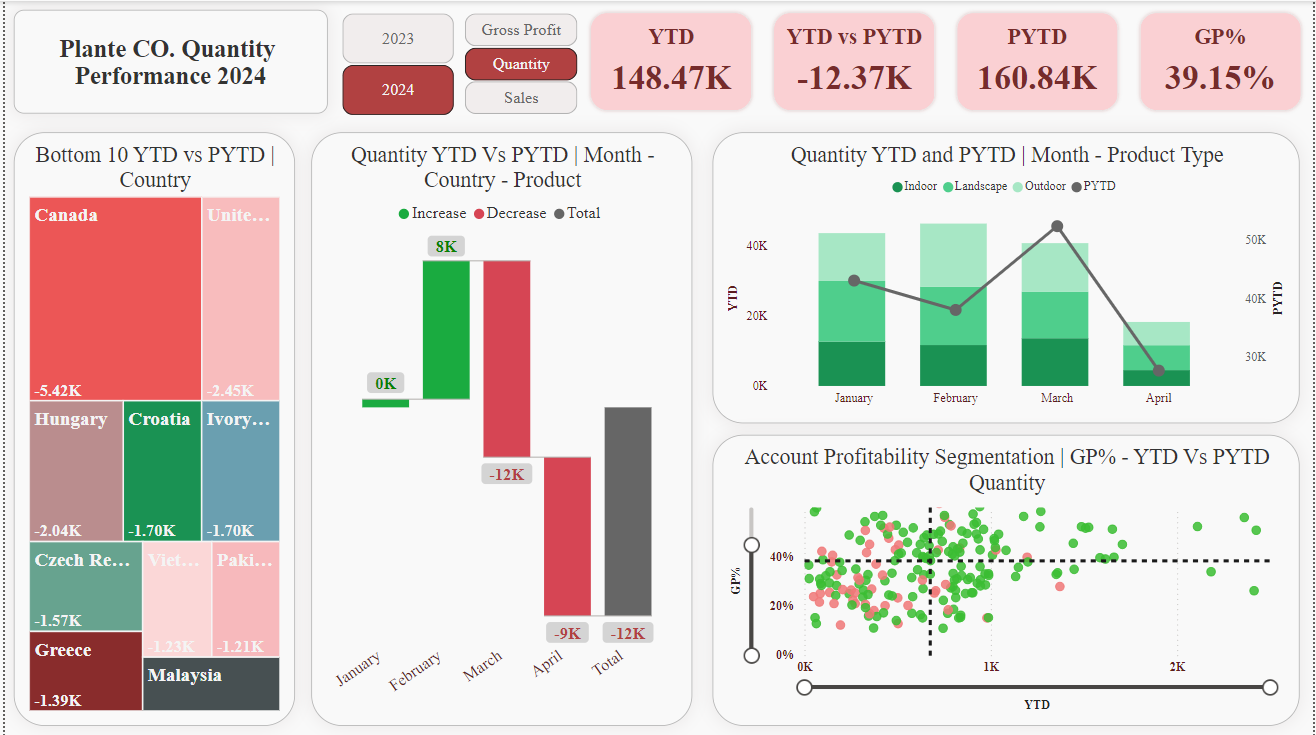

This screenshot's page, from the dashboard's own definition file:
{"tool":"powerbi","page":{"name":"Page 1","canvas":[1280,720],"ordinal":0},"visuals":[{"type":"cardVisual","fields":{"Data":["_Measures.S_YTD","_Measures.YTD vs PYTD","_Measures.S_PYTD","_Measures.GP%"]},"box":[561.3,0,718,119.8],"z":0},{"type":"advancedSlicerVisual","fields":{"Values":["SLC_Values.Values"]},"box":[445,7,120,110.1],"z":1000},{"type":"advancedSlicerVisual","fields":{"Values":["Dim_Date.Date.Variation.Date Hierarchy.Year"]},"box":[325,7,119.8,110.1],"z":2000},{"type":"treemap","title":"Bottom 10 YTD vs PYTD | Country","fields":{"Group":["Dim_Account.country"],"Values":["_Measures.YTD vs PYTD"]},"box":[8.6,128.4,275.1,580.8],"z":3000},{"type":"waterfallChart","fields":{"Y":["_Measures.YTD vs PYTD"],"Category":["Dim_Date.Date.Variation.Date Hierarchy.Month","Dim_Account.country","Dim_Product.Produt_Type","Dim_Product.Product_Name"]},"box":[299.6,128.4,373,580.8],"z":4000},{"type":"lineStackedColumnComboChart","fields":{"Category":["Dim_Date.Date.Variation.Date Hierarchy.Month"],"Y":["_Measures.S_YTD"],"Y2":["_Measures.S_PYTD"],"Series":["Dim_Product.Produt_Type"]},"box":[692.1,128.4,574.7,285],"z":5000},{"type":"scatterChart","fields":{"Y":["_Measures.GP%"],"X":["_Measures.S_YTD"],"Category":["Dim_Account.Account"]},"box":[692.1,424.3,574.7,284.9],"z":6000},{"type":"card","fields":{"Values":["_Measures._ReportTitle"]},"box":[8.6,8,306.9,101.5],"z":7000}]}

Visuals, with their boxes in screenshot pixels (x1, y1, x2, y2), scaled from the page's 1280x720 canvas onto the 1316x735 screenshot:
cardVisual - _Measures.S_YTD x _Measures.YTD vs PYTD: Rect(577, 0, 1315, 122)
advancedSlicerVisual - SLC_Values.Values: Rect(458, 7, 581, 120)
advancedSlicerVisual - Dim_Date.Date.Variation.Date Hierarchy.Year: Rect(334, 7, 457, 120)
"Bottom 10 YTD vs PYTD | Country" treemap: Rect(9, 131, 292, 724)
waterfallChart - _Measures.YTD vs PYTD x Dim_Date.Date.Variation.Date Hierarchy.Month: Rect(308, 131, 692, 724)
lineStackedColumnComboChart - Dim_Date.Date.Variation.Date Hierarchy.Month x _Measures.S_YTD: Rect(712, 131, 1302, 422)
scatterChart - _Measures.GP% x _Measures.S_YTD: Rect(712, 433, 1302, 724)
card - _Measures._ReportTitle: Rect(9, 8, 324, 112)
